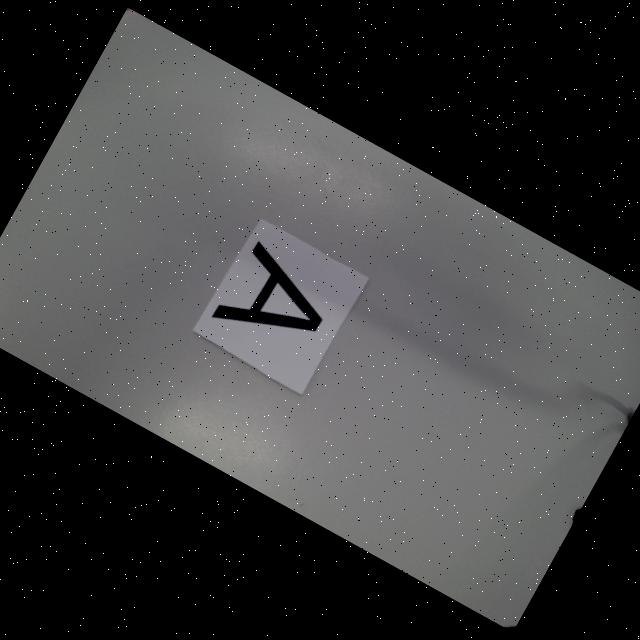FAKE: (212, 238, 342, 365)
